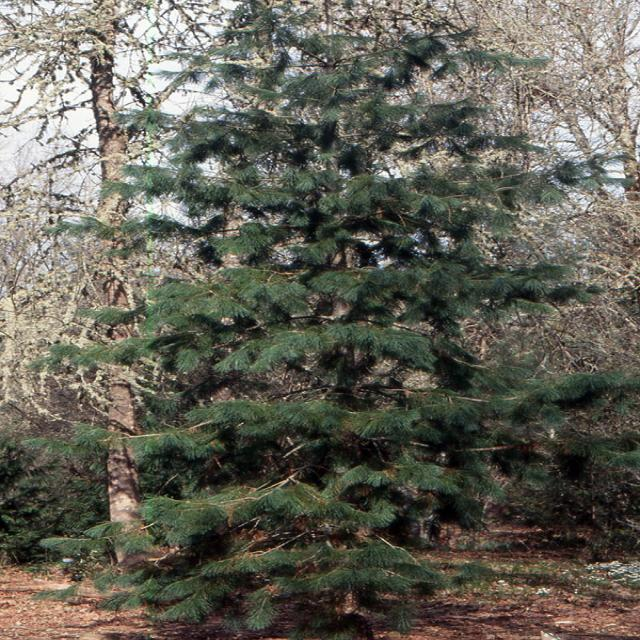Pinus lambertiana: (75, 4, 633, 640)
